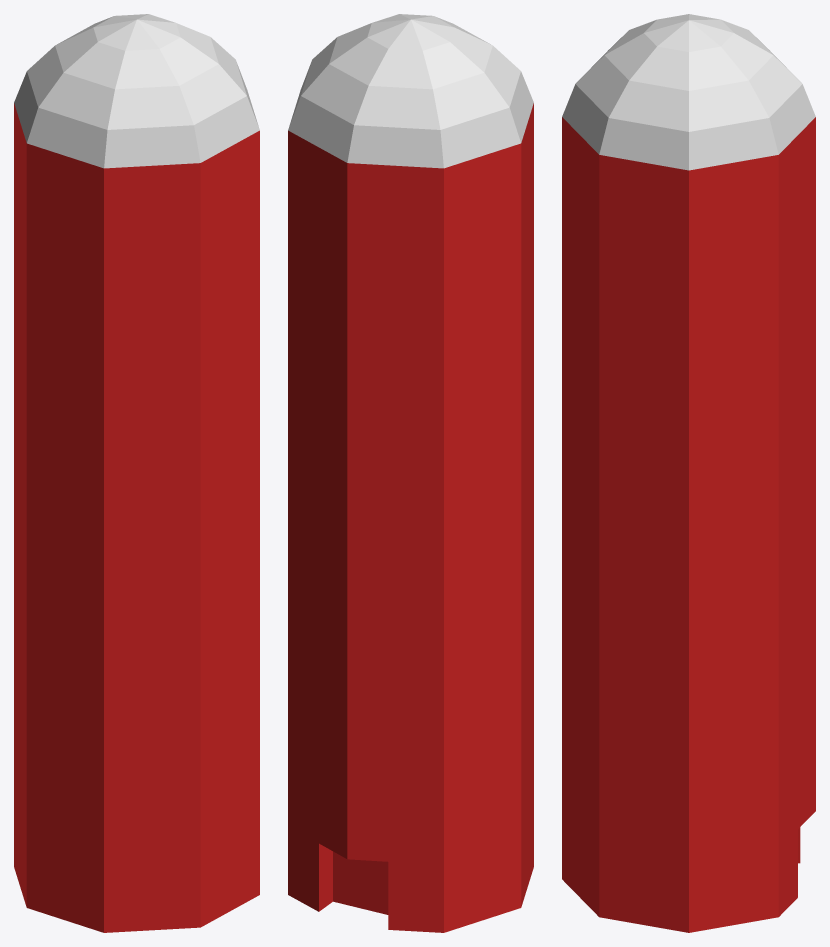
File: Silo.fbx
The picture shows the model from 3 angles, left to right: view 1: azimuth 30°, elevation 25°; view 2: azimuth 150°, elevation 25°; view 3: azimuth 270°, elevation 25°; orthographic projection.
Parts seen in each view (by area): view 1: Silo; view 2: Silo; view 3: Silo.
Part boxes in pixels (x1,y1,x2,y2): Silo: (14,14,259,932); Silo: (288,14,533,932); Silo: (562,14,815,932).
Bounding box in the file's own units: 2.41 × 2.41 × 9.01.
